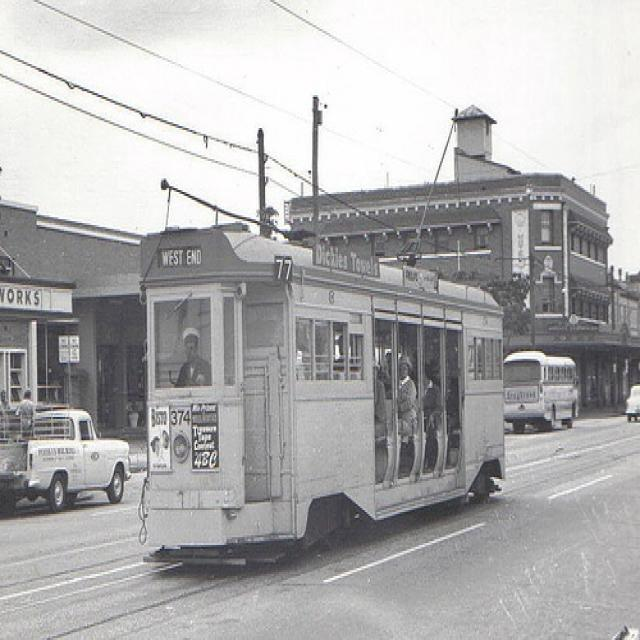bus: (130, 219, 504, 561), (503, 349, 581, 436)
car: (0, 398, 132, 522)
pole: (252, 124, 273, 231), (307, 90, 321, 242)
